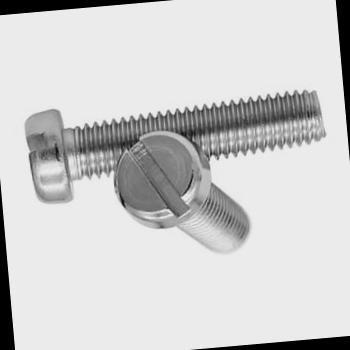screw: (109, 126, 214, 232)
